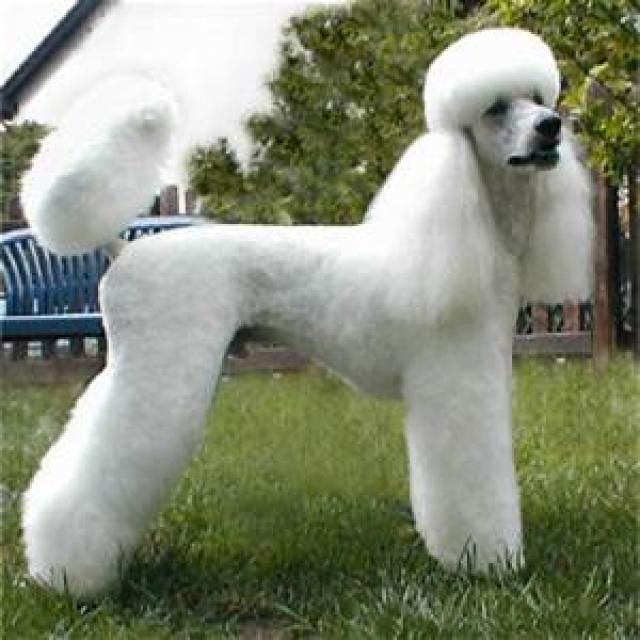dog: (17, 26, 597, 604)
